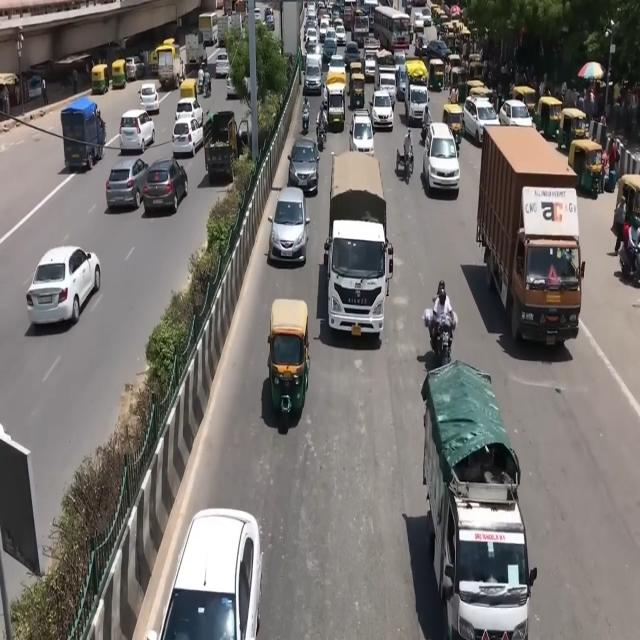auto: (266, 299, 312, 419), (60, 96, 106, 172), (567, 138, 604, 198), (615, 173, 640, 227), (536, 95, 564, 143), (559, 106, 587, 153), (442, 101, 465, 152), (512, 84, 538, 117), (348, 68, 366, 111), (468, 84, 493, 114), (447, 65, 465, 100), (428, 58, 446, 92), (453, 23, 472, 53), (91, 64, 109, 95), (441, 20, 458, 50), (111, 59, 127, 89), (447, 54, 462, 86), (468, 57, 484, 84), (430, 4, 443, 27)
bike-auto: (426, 283, 459, 352), (625, 217, 639, 277), (403, 128, 413, 173), (316, 104, 326, 140), (301, 106, 310, 136), (203, 69, 211, 97), (303, 96, 310, 122), (198, 66, 204, 92)
